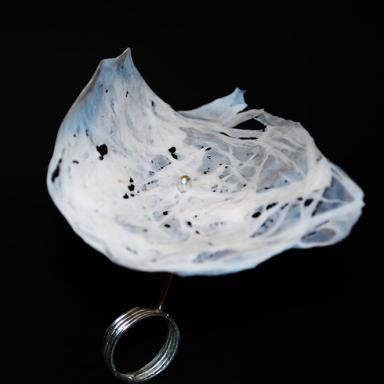plastic bag: (43, 45, 365, 276)
